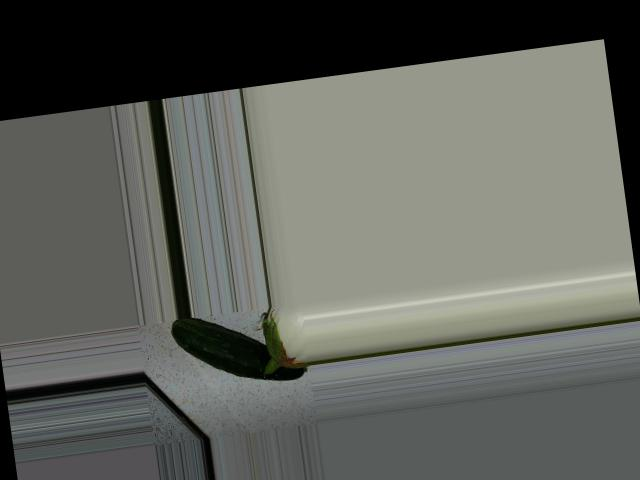cucumber: (169, 302, 308, 394)
